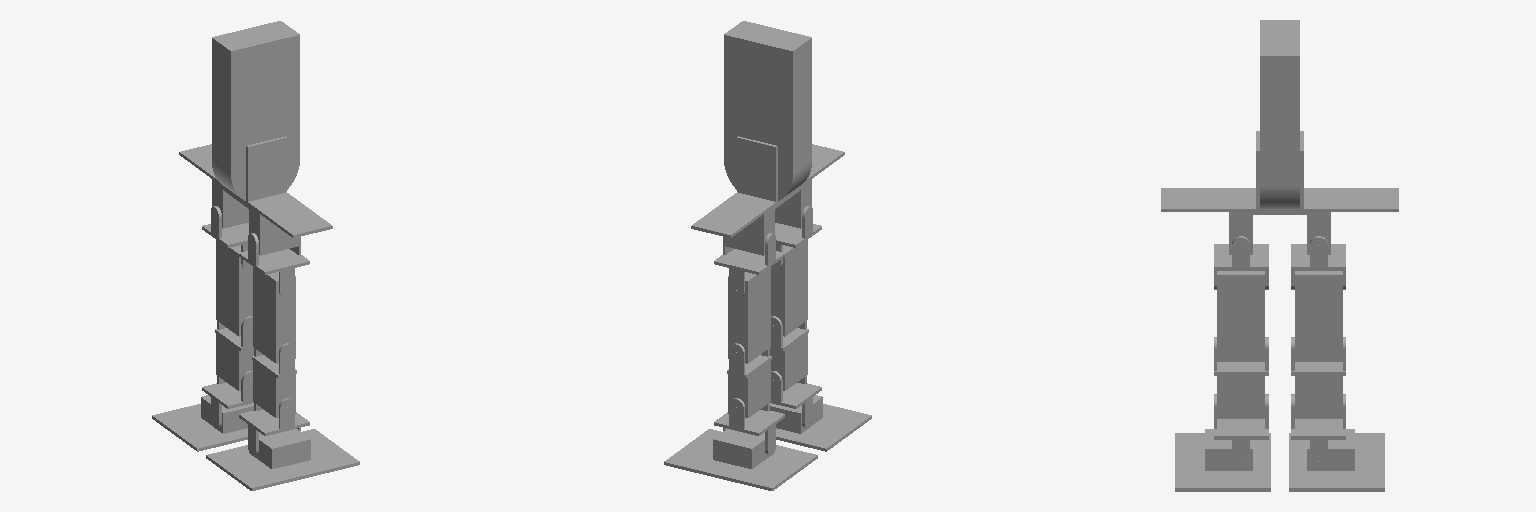
URDF robot description (biped):
<?xml version="1.0" ?>
<!-- =================================================================================== -->
<!-- |    This document was autogenerated by xacro from urdf\biped.xacro.temp          | -->
<!-- |    EDITING THIS FILE BY HAND IS NOT RECOMMENDED                                 | -->
<!-- =================================================================================== -->
<robot xmlns:xacro="http://www.ros.org/wiki/xacro" name="biped">
  <material name="silver">
    <color rgba="0.700 0.700 0.700 1.000"/>
  </material>
  <transmission name="Revolute 1_tran">
    <type>transmission_interface/SimpleTransmission</type>
    <joint name="Revolute 1">
      <hardwareInterface>hardware_interface/EffortJointInterface</hardwareInterface>
    </joint>
    <actuator name="Revolute 1_actr">
      <hardwareInterface>hardware_interface/EffortJointInterface</hardwareInterface>
      <mechanicalReduction>1</mechanicalReduction>
    </actuator>
  </transmission>
  <transmission name="Revolute 2_tran">
    <type>transmission_interface/SimpleTransmission</type>
    <joint name="Revolute 2">
      <hardwareInterface>hardware_interface/EffortJointInterface</hardwareInterface>
    </joint>
    <actuator name="Revolute 2_actr">
      <hardwareInterface>hardware_interface/EffortJointInterface</hardwareInterface>
      <mechanicalReduction>1</mechanicalReduction>
    </actuator>
  </transmission>
  <transmission name="Revolute 3_tran">
    <type>transmission_interface/SimpleTransmission</type>
    <joint name="Revolute 3">
      <hardwareInterface>hardware_interface/EffortJointInterface</hardwareInterface>
    </joint>
    <actuator name="Revolute 3_actr">
      <hardwareInterface>hardware_interface/EffortJointInterface</hardwareInterface>
      <mechanicalReduction>1</mechanicalReduction>
    </actuator>
  </transmission>
  <transmission name="Revolute 4_tran">
    <type>transmission_interface/SimpleTransmission</type>
    <joint name="Revolute 4">
      <hardwareInterface>hardware_interface/EffortJointInterface</hardwareInterface>
    </joint>
    <actuator name="Revolute 4_actr">
      <hardwareInterface>hardware_interface/EffortJointInterface</hardwareInterface>
      <mechanicalReduction>1</mechanicalReduction>
    </actuator>
  </transmission>
  <transmission name="Revolute 5_tran">
    <type>transmission_interface/SimpleTransmission</type>
    <joint name="Revolute 5">
      <hardwareInterface>hardware_interface/EffortJointInterface</hardwareInterface>
    </joint>
    <actuator name="Revolute 5_actr">
      <hardwareInterface>hardware_interface/EffortJointInterface</hardwareInterface>
      <mechanicalReduction>1</mechanicalReduction>
    </actuator>
  </transmission>
  <transmission name="Revolute 6_tran">
    <type>transmission_interface/SimpleTransmission</type>
    <joint name="Revolute 6">
      <hardwareInterface>hardware_interface/EffortJointInterface</hardwareInterface>
    </joint>
    <actuator name="Revolute 6_actr">
      <hardwareInterface>hardware_interface/EffortJointInterface</hardwareInterface>
      <mechanicalReduction>1</mechanicalReduction>
    </actuator>
  </transmission>
  <transmission name="Revolute 7_tran">
    <type>transmission_interface/SimpleTransmission</type>
    <joint name="Revolute 7">
      <hardwareInterface>hardware_interface/EffortJointInterface</hardwareInterface>
    </joint>
    <actuator name="Revolute 7_actr">
      <hardwareInterface>hardware_interface/EffortJointInterface</hardwareInterface>
      <mechanicalReduction>1</mechanicalReduction>
    </actuator>
  </transmission>
  <transmission name="Revolute 8_tran">
    <type>transmission_interface/SimpleTransmission</type>
    <joint name="Revolute 8">
      <hardwareInterface>hardware_interface/EffortJointInterface</hardwareInterface>
    </joint>
    <actuator name="Revolute 8_actr">
      <hardwareInterface>hardware_interface/EffortJointInterface</hardwareInterface>
      <mechanicalReduction>1</mechanicalReduction>
    </actuator>
  </transmission>
  <transmission name="Revolute 12_tran">
    <type>transmission_interface/SimpleTransmission</type>
    <joint name="Revolute 12">
      <hardwareInterface>hardware_interface/EffortJointInterface</hardwareInterface>
    </joint>
    <actuator name="Revolute 12_actr">
      <hardwareInterface>hardware_interface/EffortJointInterface</hardwareInterface>
      <mechanicalReduction>1</mechanicalReduction>
    </actuator>
  </transmission>
  <transmission name="Revolute 13_tran">
    <type>transmission_interface/SimpleTransmission</type>
    <joint name="Revolute 13">
      <hardwareInterface>hardware_interface/EffortJointInterface</hardwareInterface>
    </joint>
    <actuator name="Revolute 13_actr">
      <hardwareInterface>hardware_interface/EffortJointInterface</hardwareInterface>
      <mechanicalReduction>1</mechanicalReduction>
    </actuator>
  </transmission>
  <transmission name="Slider 14_tran">
    <type>transmission_interface/SimpleTransmission</type>
    <joint name="Slider 14">
      <hardwareInterface>hardware_interface/EffortJointInterface</hardwareInterface>
    </joint>
    <actuator name="Slider 14_actr">
      <hardwareInterface>hardware_interface/EffortJointInterface</hardwareInterface>
      <mechanicalReduction>1</mechanicalReduction>
    </actuator>
  </transmission>
  <transmission name="Revolute 15_tran">
    <type>transmission_interface/SimpleTransmission</type>
    <joint name="Revolute 15">
      <hardwareInterface>hardware_interface/EffortJointInterface</hardwareInterface>
    </joint>
    <actuator name="Revolute 15_actr">
      <hardwareInterface>hardware_interface/EffortJointInterface</hardwareInterface>
      <mechanicalReduction>1</mechanicalReduction>
    </actuator>
  </transmission>
  <!-- omitted .gazebo include -->
  <link name="base_link">
    <inertial>
      <origin xyz="-4.0314630566490926e-19 -2.311756942495181e-18 0.0026594776595595215" rpy="0 0 0"/>
      <mass value="0.0007331653384976692"/>
      <inertia ixx="0.0" iyy="0.0" izz="0.0" ixy="-0.0" iyz="-0.0" ixz="-0.0"/>
    </inertial>
    <visual>
      <origin xyz="0 0 0" rpy="0 0 0"/>
      <geometry>
        <mesh filename="package://biped_description/meshes/base_link.stl" scale="0.001 0.001 0.001"/>
      </geometry>
      <material name="silver"/>
    </visual>
    <collision>
      <origin xyz="0 0 0" rpy="0 0 0"/>
      <geometry>
        <mesh filename="package://biped_description/meshes/base_link.stl" scale="0.001 0.001 0.001"/>
      </geometry>
    </collision>
  </link>
  <link name="l_hip_1">
    <inertial>
      <origin xyz="-0.0019999999999999987 -7.264315754831885e-11 -0.0021500000223517394" rpy="0 0 0"/>
      <mass value="8.634107252961229e-05"/>
      <inertia ixx="0.0" iyy="0.0" izz="0.0" ixy="-0.0" iyz="-0.0" ixz="0.0"/>
    </inertial>
    <visual>
      <origin xyz="-0.002 -0.00325 -0.001" rpy="0 0 0"/>
      <geometry>
        <mesh filename="package://biped_description/meshes/l_hip_1.stl" scale="0.001 0.001 0.001"/>
      </geometry>
      <material name="silver"/>
    </visual>
    <collision>
      <origin xyz="-0.002 -0.00325 -0.001" rpy="0 0 0"/>
      <geometry>
        <mesh filename="package://biped_description/meshes/l_hip_1.stl" scale="0.001 0.001 0.001"/>
      </geometry>
    </collision>
  </link>
  <link name="r_hip_1">
    <inertial>
      <origin xyz="-0.0020000000000000026 7.264315277782929e-11 -0.0021500000223517394" rpy="0 0 0"/>
      <mass value="8.634107252961229e-05"/>
      <inertia ixx="0.0" iyy="0.0" izz="0.0" ixy="-0.0" iyz="-0.0" ixz="0.0"/>
    </inertial>
    <visual>
      <origin xyz="-0.002 0.00325 -0.001" rpy="0 0 0"/>
      <geometry>
        <mesh filename="package://biped_description/meshes/r_hip_1.stl" scale="0.001 0.001 0.001"/>
      </geometry>
      <material name="silver"/>
    </visual>
    <collision>
      <origin xyz="-0.002 0.00325 -0.001" rpy="0 0 0"/>
      <geometry>
        <mesh filename="package://biped_description/meshes/r_hip_1.stl" scale="0.001 0.001 0.001"/>
      </geometry>
    </collision>
  </link>
  <link name="l_thigh_1">
    <inertial>
      <origin xyz="-2.2352835971073405e-11 -0.0020000000726431533 -0.002999999955296517" rpy="0 0 0"/>
      <mass value="0.0005023753384976689"/>
      <inertia ixx="0.0" iyy="0.0" izz="0.0" ixy="-0.0" iyz="-0.0" ixz="0.0"/>
    </inertial>
    <visual>
      <origin xyz="-0.0 -0.00525 0.0033" rpy="0 0 0"/>
      <geometry>
        <mesh filename="package://biped_description/meshes/l_thigh_1.stl" scale="0.001 0.001 0.001"/>
      </geometry>
      <material name="silver"/>
    </visual>
    <collision>
      <origin xyz="-0.0 -0.00525 0.0033" rpy="0 0 0"/>
      <geometry>
        <mesh filename="package://biped_description/meshes/l_thigh_1.stl" scale="0.001 0.001 0.001"/>
      </geometry>
    </collision>
  </link>
  <link name="r_thigh_1">
    <inertial>
      <origin xyz="-2.2352838191519453e-11 0.0020000000726431494 -0.002999999955296517" rpy="0 0 0"/>
      <mass value="0.0005023753384976689"/>
      <inertia ixx="0.0" iyy="0.0" izz="0.0" ixy="-0.0" iyz="0.0" ixz="0.0"/>
    </inertial>
    <visual>
      <origin xyz="0.0 0.00525 0.0033" rpy="0 0 0"/>
      <geometry>
        <mesh filename="package://biped_description/meshes/r_thigh_1.stl" scale="0.001 0.001 0.001"/>
      </geometry>
      <material name="silver"/>
    </visual>
    <collision>
      <origin xyz="0.0 0.00525 0.0033" rpy="0 0 0"/>
      <geometry>
        <mesh filename="package://biped_description/meshes/r_thigh_1.stl" scale="0.001 0.001 0.001"/>
      </geometry>
    </collision>
  </link>
  <link name="l_calf_1">
    <inertial>
      <origin xyz="3.059388659076845e-11 -0.002000000072643155 -0.003914288283714446" rpy="0 0 0"/>
      <mass value="0.00029110830222198907"/>
      <inertia ixx="0.0" iyy="0.0" izz="0.0" ixy="-0.0" iyz="0.0" ixz="0.0"/>
    </inertial>
    <visual>
      <origin xyz="-0.0 -0.00525 0.0093" rpy="0 0 0"/>
      <geometry>
        <mesh filename="package://biped_description/meshes/l_calf_1.stl" scale="0.001 0.001 0.001"/>
      </geometry>
      <material name="silver"/>
    </visual>
    <collision>
      <origin xyz="-0.0 -0.00525 0.0093" rpy="0 0 0"/>
      <geometry>
        <mesh filename="package://biped_description/meshes/l_calf_1.stl" scale="0.001 0.001 0.001"/>
      </geometry>
    </collision>
  </link>
  <link name="r_calf_1">
    <inertial>
      <origin xyz="3.059388173354271e-11 0.0020000000726431515 -0.003914288283714446" rpy="0 0 0"/>
      <mass value="0.00029110830222198907"/>
      <inertia ixx="0.0" iyy="0.0" izz="0.0" ixy="0.0" iyz="0.0" ixz="0.0"/>
    </inertial>
    <visual>
      <origin xyz="0.0 0.00525 0.0093" rpy="0 0 0"/>
      <geometry>
        <mesh filename="package://biped_description/meshes/r_calf_1.stl" scale="0.001 0.001 0.001"/>
      </geometry>
      <material name="silver"/>
    </visual>
    <collision>
      <origin xyz="0.0 0.00525 0.0093" rpy="0 0 0"/>
      <geometry>
        <mesh filename="package://biped_description/meshes/r_calf_1.stl" scale="0.001 0.001 0.001"/>
      </geometry>
    </collision>
  </link>
  <link name="l_ankle_1">
    <inertial>
      <origin xyz="2.2351747620277e-11 -0.002000000072643157 -0.002149999865889549" rpy="0 0 0"/>
      <mass value="8.634107252961244e-05"/>
      <inertia ixx="0.0" iyy="0.0" izz="0.0" ixy="-0.0" iyz="0.0" ixz="-0.0"/>
    </inertial>
    <visual>
      <origin xyz="-0.0 -0.00525 0.0146" rpy="0 0 0"/>
      <geometry>
        <mesh filename="package://biped_description/meshes/l_ankle_1.stl" scale="0.001 0.001 0.001"/>
      </geometry>
      <material name="silver"/>
    </visual>
    <collision>
      <origin xyz="-0.0 -0.00525 0.0146" rpy="0 0 0"/>
      <geometry>
        <mesh filename="package://biped_description/meshes/l_ankle_1.stl" scale="0.001 0.001 0.001"/>
      </geometry>
    </collision>
  </link>
  <link name="r_ankle_1">
    <inertial>
      <origin xyz="2.2351739736024254e-11 0.002000000072643144 -0.0021499998882412875" rpy="0 0 0"/>
      <mass value="8.634107252961244e-05"/>
      <inertia ixx="0.0" iyy="0.0" izz="0.0" ixy="-0.0" iyz="0.0" ixz="0.0"/>
    </inertial>
    <visual>
      <origin xyz="-0.0 0.00525 0.0146" rpy="0 0 0"/>
      <geometry>
        <mesh filename="package://biped_description/meshes/r_ankle_1.stl" scale="0.001 0.001 0.001"/>
      </geometry>
      <material name="silver"/>
    </visual>
    <collision>
      <origin xyz="-0.0 0.00525 0.0146" rpy="0 0 0"/>
      <geometry>
        <mesh filename="package://biped_description/meshes/r_ankle_1.stl" scale="0.001 0.001 0.001"/>
      </geometry>
    </collision>
  </link>
  <link name="l_foot_1">
    <inertial>
      <origin xyz="-0.001999999977648251 0.0012260273246171237 -0.0005198628795881795" rpy="0 0 0"/>
      <mass value="0.00045844"/>
      <inertia ixx="0.0" iyy="0.0" izz="0.0" ixy="0.0" iyz="0.0" ixz="0.0"/>
    </inertial>
    <visual>
      <origin xyz="-0.002 -0.00325 0.0189" rpy="0 0 0"/>
      <geometry>
        <mesh filename="package://biped_description/meshes/l_foot_1.stl" scale="0.001 0.001 0.001"/>
      </geometry>
      <material name="silver"/>
    </visual>
    <collision>
      <origin xyz="-0.002 -0.00325 0.0189" rpy="0 0 0"/>
      <geometry>
        <mesh filename="package://biped_description/meshes/l_foot_1.stl" scale="0.001 0.001 0.001"/>
      </geometry>
    </collision>
  </link>
  <link name="r_foot_1">
    <inertial>
      <origin xyz="-0.00199999997764826 -0.001226060268704573 -0.0005198768851741135" rpy="0 0 0"/>
      <mass value="0.00045842766924883465"/>
      <inertia ixx="0.0" iyy="0.0" izz="0.0" ixy="-0.0" iyz="-0.0" ixz="-0.0"/>
    </inertial>
    <visual>
      <origin xyz="-0.002 0.00325 0.0189" rpy="0 0 0"/>
      <geometry>
        <mesh filename="package://biped_description/meshes/r_foot_1.stl" scale="0.001 0.001 0.001"/>
      </geometry>
      <material name="silver"/>
    </visual>
    <collision>
      <origin xyz="-0.002 0.00325 0.0189" rpy="0 0 0"/>
      <geometry>
        <mesh filename="package://biped_description/meshes/r_foot_1.stl" scale="0.001 0.001 0.001"/>
      </geometry>
    </collision>
  </link>
  <link name="sacrum_1">
    <inertial>
      <origin xyz="-5.322339130313942e-12 -4.923167429282671e-12 0.0020426460827791997" rpy="0 0 0"/>
      <mass value="0.0001318676695997575"/>
      <inertia ixx="0.0" iyy="0.0" izz="0.0" ixy="-0.0" iyz="0.0" ixz="0.0"/>
    </inertial>
    <visual>
      <origin xyz="0.0 -0.0 -0.0043" rpy="0 0 0"/>
      <geometry>
        <mesh filename="package://biped_description/meshes/sacrum_1.stl" scale="0.001 0.001 0.001"/>
      </geometry>
      <material name="silver"/>
    </visual>
    <collision>
      <origin xyz="0.0 -0.0 -0.0043" rpy="0 0 0"/>
      <geometry>
        <mesh filename="package://biped_description/meshes/sacrum_1.stl" scale="0.001 0.001 0.001"/>
      </geometry>
    </collision>
  </link>
  <link name="back_1">
    <inertial>
      <origin xyz="-4.243683698498517e-11 -0.0016999999999999988 0.004605215490604516" rpy="0 0 0"/>
      <mass value="0.0027553261785723494"/>
      <inertia ixx="0.0" iyy="0.0" izz="0.0" ixy="0.0" iyz="0.0" ixz="0.0"/>
    </inertial>
    <visual>
      <origin xyz="0.0 -0.0017 -0.0071" rpy="0 0 0"/>
      <geometry>
        <mesh filename="package://biped_description/meshes/back_1.stl" scale="0.001 0.001 0.001"/>
      </geometry>
      <material name="silver"/>
    </visual>
    <collision>
      <origin xyz="0.0 -0.0017 -0.0071" rpy="0 0 0"/>
      <geometry>
        <mesh filename="package://biped_description/meshes/back_1.stl" scale="0.001 0.001 0.001"/>
      </geometry>
    </collision>
  </link>
  <joint name="Revolute 1" type="revolute">
    <origin xyz="0.002 0.00325 0.001" rpy="0 0 0"/>
    <parent link="base_link"/>
    <child link="l_hip_1"/>
    <axis xyz="1.0 -0.0 0.0"/>
    <limit upper="1.396263" lower="-0.872665" effort="100" velocity="100"/>
  </joint>
  <joint name="Revolute 2" type="revolute">
    <origin xyz="0.002 -0.00325 0.001" rpy="0 0 0"/>
    <parent link="base_link"/>
    <child link="r_hip_1"/>
    <axis xyz="1.0 -0.0 0.0"/>
    <limit upper="0.872665" lower="-1.396263" effort="100" velocity="100"/>
  </joint>
  <joint name="Revolute 3" type="revolute">
    <origin xyz="-0.002 0.002 -0.0043" rpy="0 0 0"/>
    <parent link="l_hip_1"/>
    <child link="l_thigh_1"/>
    <axis xyz="-0.0 -1.0 0.0"/>
    <limit upper="1.570796" lower="-1.570796" effort="100" velocity="100"/>
  </joint>
  <joint name="Revolute 4" type="revolute">
    <origin xyz="-0.002 -0.002 -0.0043" rpy="0 0 0"/>
    <parent link="r_hip_1"/>
    <child link="r_thigh_1"/>
    <axis xyz="0.0 1.0 0.0"/>
    <limit upper="1.570796" lower="-1.570796" effort="100" velocity="100"/>
  </joint>
  <joint name="Revolute 5" type="revolute">
    <origin xyz="0.0 0.0 -0.006" rpy="0 0 0"/>
    <parent link="l_thigh_1"/>
    <child link="l_calf_1"/>
    <axis xyz="-0.0 1.0 0.0"/>
    <limit upper="1.570796" lower="-1.570796" effort="100" velocity="100"/>
  </joint>
  <joint name="Revolute 6" type="revolute">
    <origin xyz="0.0 0.0 -0.006" rpy="0 0 0"/>
    <parent link="r_thigh_1"/>
    <child link="r_calf_1"/>
    <axis xyz="-0.0 -1.0 0.0"/>
    <limit upper="1.570796" lower="-1.570796" effort="100" velocity="100"/>
  </joint>
  <joint name="Revolute 7" type="revolute">
    <origin xyz="0.0 0.0 -0.0053" rpy="0 0 0"/>
    <parent link="l_calf_1"/>
    <child link="l_ankle_1"/>
    <axis xyz="0.0 1.0 0.0"/>
    <limit upper="1.570796" lower="-1.570796" effort="100" velocity="100"/>
  </joint>
  <joint name="Revolute 8" type="revolute">
    <origin xyz="0.0 0.0 -0.0053" rpy="0 0 0"/>
    <parent link="r_calf_1"/>
    <child link="r_ankle_1"/>
    <axis xyz="0.0 -1.0 0.0"/>
    <limit upper="1.570796" lower="-1.570796" effort="100" velocity="100"/>
  </joint>
  <joint name="Revolute 12" type="revolute">
    <origin xyz="0.002 -0.002 -0.0043" rpy="0 0 0"/>
    <parent link="l_ankle_1"/>
    <child link="l_foot_1"/>
    <axis xyz="-1.0 -0.0 0.0"/>
    <limit upper="0.698132" lower="-0.349066" effort="100" velocity="100"/>
  </joint>
  <joint name="Revolute 13" type="revolute">
    <origin xyz="0.002 0.002 -0.0043" rpy="0 0 0"/>
    <parent link="r_ankle_1"/>
    <child link="r_foot_1"/>
    <axis xyz="-1.0 0.0 0.0"/>
    <limit upper="0.349066" lower="-0.698132" effort="100" velocity="100"/>
  </joint>
  <joint name="Slider 14" type="prismatic">
    <origin xyz="0.0 0.0 0.0043" rpy="0 0 0"/>
    <parent link="base_link"/>
    <child link="sacrum_1"/>
    <axis xyz="-0.0 -1.0 0.0"/>
    <limit upper="0.009" lower="-0.009" effort="100" velocity="100"/>
  </joint>
  <joint name="Revolute 15" type="revolute">
    <origin xyz="0.0 0.0017 0.0028" rpy="0 0 0"/>
    <parent link="sacrum_1"/>
    <child link="back_1"/>
    <axis xyz="-0.0 -1.0 0.0"/>
    <limit upper="1.570796" lower="-1.570796" effort="100" velocity="100"/>
  </joint>
</robot>

--- What the picture shows (computed from the rendered views, not written in the file) ---
The picture shows the robot from 3 angles, left to right: view 1: azimuth 30°, elevation 25°; view 2: azimuth 150°, elevation 25°; view 3: azimuth 270°, elevation 25°; orthographic projection.
Robot: biped — 13 links, 12 joints (11 revolute, 1 prismatic); root link base_link; default pose: all joints at 0.
Links seen in each view (by area): view 1: back_1, r_foot_1, base_link, r_thigh_1, l_foot_1, l_thigh_1, r_calf_1, sacrum_1, l_calf_1, r_hip_1, r_ankle_1, l_ankle_1 (+1 smaller); view 2: back_1, l_foot_1, base_link, l_thigh_1, r_foot_1, r_thigh_1, l_calf_1, sacrum_1, r_calf_1, l_hip_1, l_ankle_1, r_ankle_1 (+1 smaller); view 3: back_1, base_link, l_foot_1, r_foot_1, l_thigh_1, r_thigh_1, l_calf_1, r_calf_1, l_ankle_1, r_ankle_1, l_hip_1, r_hip_1 (+1 smaller).
Link boxes in pixels (bbox=[...]): back_1: bbox=[212, 21, 299, 200]; r_foot_1: bbox=[206, 429, 359, 490]; base_link: bbox=[179, 144, 332, 255]; r_thigh_1: bbox=[253, 267, 295, 363]; l_foot_1: bbox=[152, 395, 253, 451]; l_thigh_1: bbox=[216, 240, 252, 336]; r_calf_1: bbox=[252, 343, 296, 417]; sacrum_1: bbox=[246, 136, 286, 201]; l_calf_1: bbox=[215, 316, 253, 390]; r_hip_1: bbox=[239, 233, 309, 297]; r_ankle_1: bbox=[239, 398, 309, 455]; l_ankle_1: bbox=[202, 371, 253, 428]; back_1: bbox=[724, 21, 811, 200]; l_foot_1: bbox=[664, 429, 817, 490]; base_link: bbox=[691, 144, 844, 255]; l_thigh_1: bbox=[728, 267, 770, 363]; r_foot_1: bbox=[770, 395, 871, 451]; r_thigh_1: bbox=[771, 240, 807, 336]; l_calf_1: bbox=[727, 343, 771, 417]; sacrum_1: bbox=[737, 136, 777, 201]; r_calf_1: bbox=[770, 316, 808, 390]; l_hip_1: bbox=[714, 233, 784, 297]; l_ankle_1: bbox=[714, 398, 784, 455]; r_ankle_1: bbox=[770, 371, 821, 428]; back_1: bbox=[1260, 20, 1299, 208]; base_link: bbox=[1161, 188, 1398, 254]; l_foot_1: bbox=[1289, 429, 1384, 491]; r_foot_1: bbox=[1175, 429, 1270, 491]; l_thigh_1: bbox=[1295, 271, 1342, 361]; r_thigh_1: bbox=[1217, 271, 1264, 361]; l_calf_1: bbox=[1291, 337, 1345, 418]; r_calf_1: bbox=[1214, 337, 1268, 418]; l_ankle_1: bbox=[1291, 394, 1345, 468]; r_ankle_1: bbox=[1214, 394, 1268, 468]; l_hip_1: bbox=[1291, 236, 1345, 289]; r_hip_1: bbox=[1214, 236, 1268, 289].
Size in the robot's own frame: 0.011 by 0.02 by 0.0393 metres.
13 mesh visuals loaded from 13 distinct referenced files (13 binary STL).